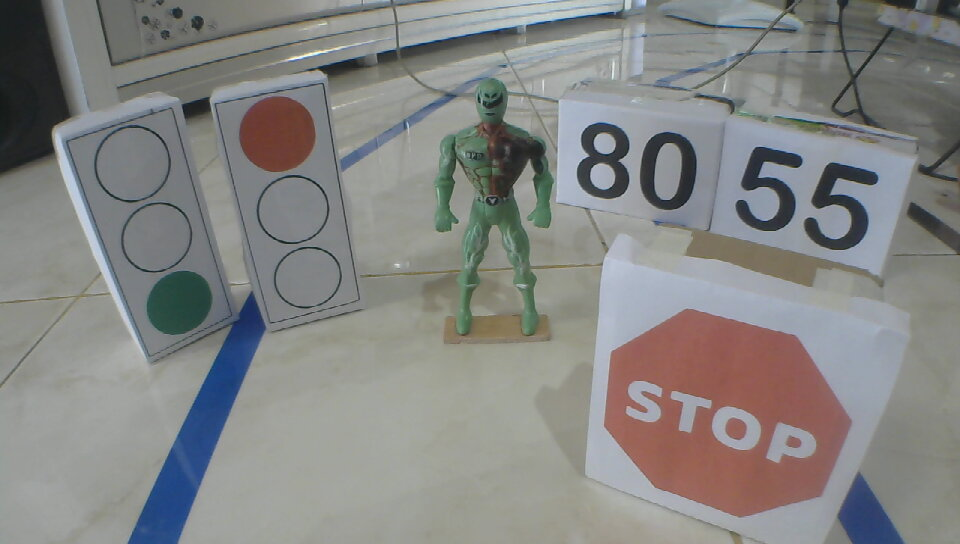Green Light: (90, 120, 214, 339)
Person: (432, 75, 558, 343)
Red Light: (236, 92, 347, 311)
Speed 55: (731, 143, 880, 252)
Speed 80: (572, 117, 700, 213)
Stop: (601, 306, 856, 519)
